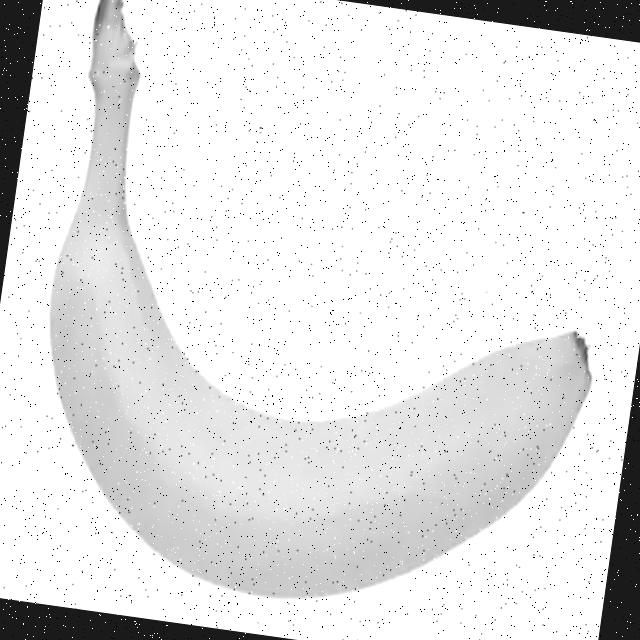Ripe: (10, 59, 628, 640)
